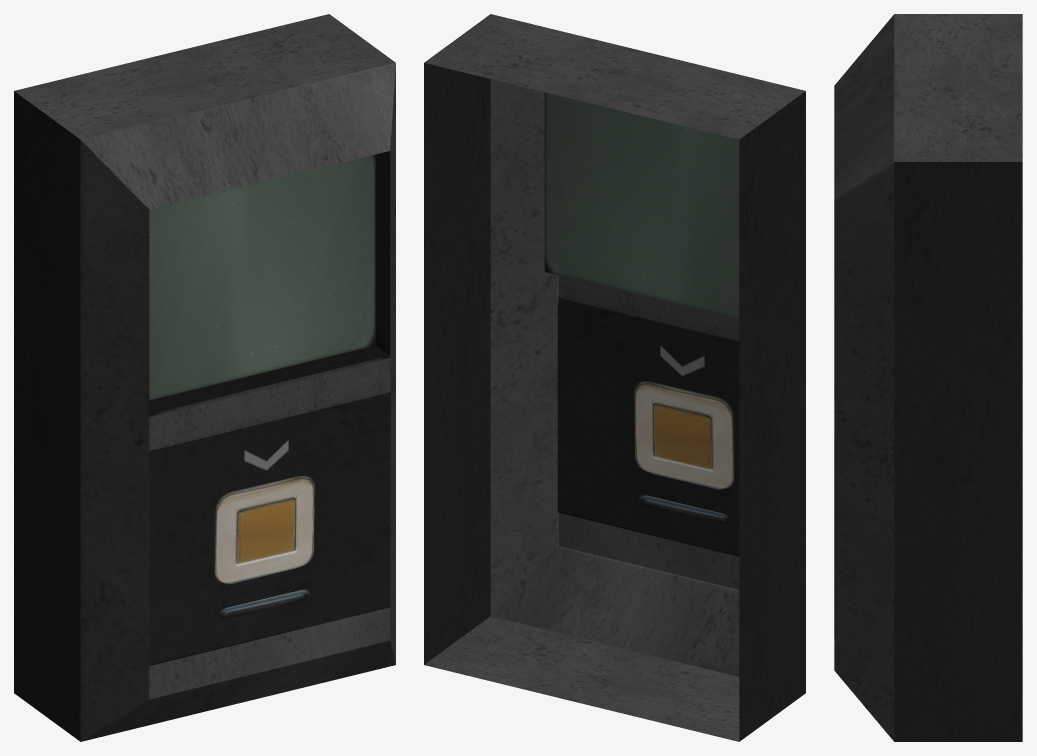
Rendered from ButtonScanner.fbx.
The picture shows the model from 3 angles, left to right: view 1: azimuth 30°, elevation 25°; view 2: azimuth 150°, elevation 25°; view 3: azimuth 270°, elevation 25°; orthographic projection. The views are drawn at different scales.
Visible parts, largest first — view 1: Scene_Root; view 2: Scene_Root; view 3: Scene_Root.
Part boxes in pixels (x1,y1,x2,y2): Scene_Root: (14, 14, 395, 741); Scene_Root: (424, 14, 805, 741); Scene_Root: (834, 14, 1022, 741).
Bounding box in the file's own units: 2.77 × 5.05 × 1.49.
